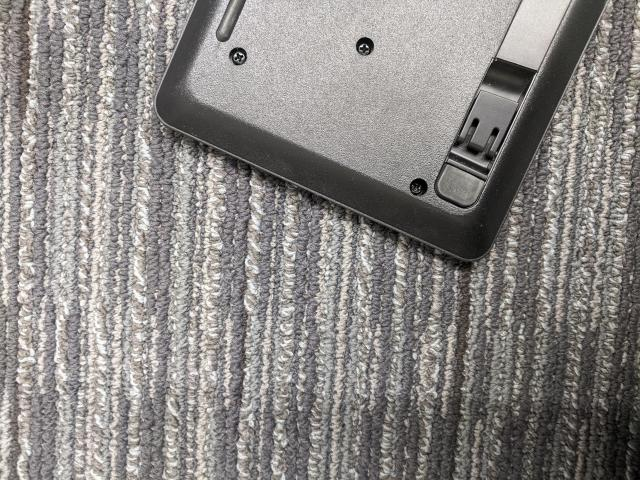CRS: (409, 176, 427, 197), (356, 38, 373, 55), (231, 48, 245, 64)
